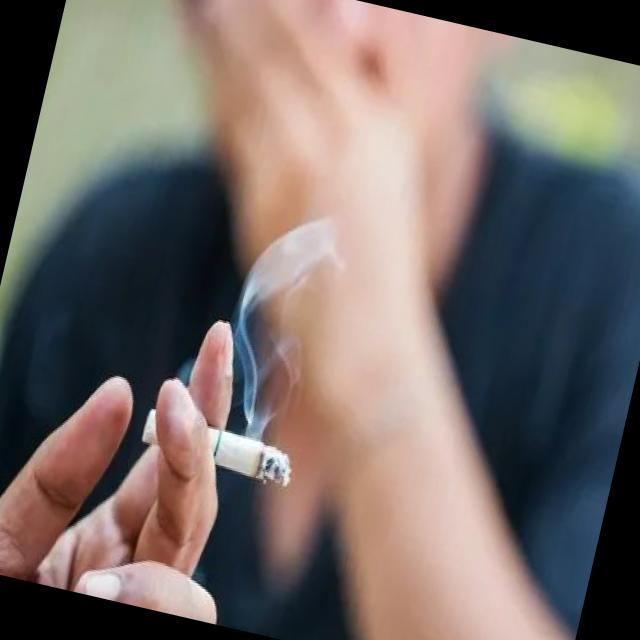cigarette: (132, 396, 304, 502)
